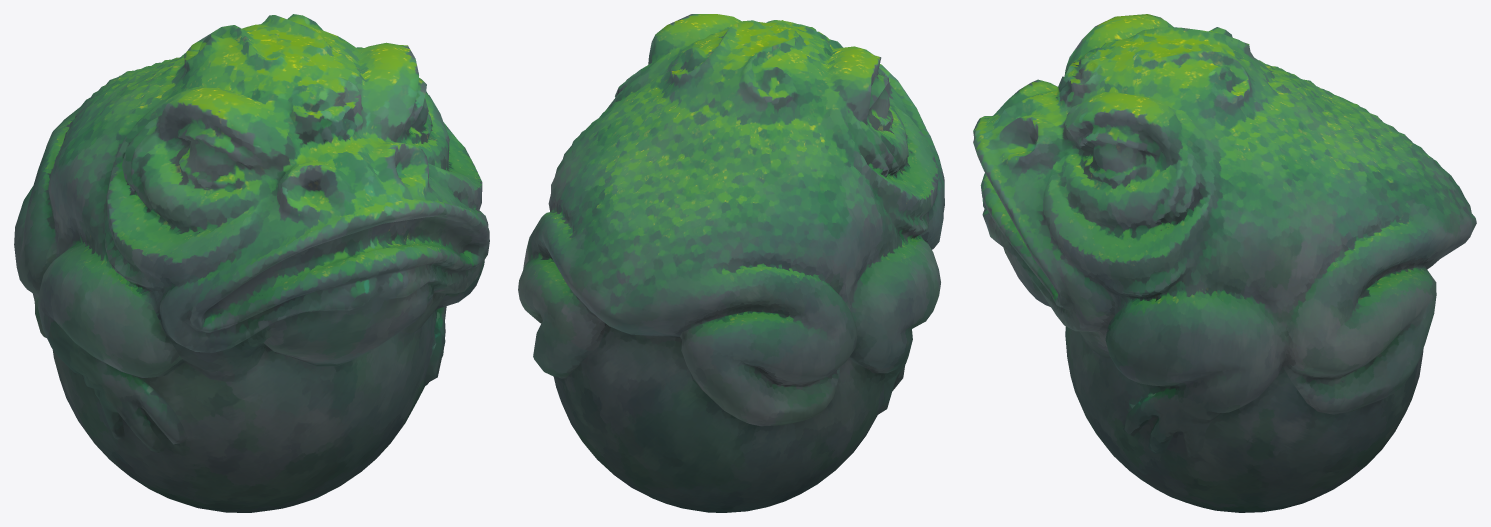
The model's file is ghibli-statue.glb.
3 views of the same model, side by side, from view 1: azimuth 30°, elevation 25°; view 2: azimuth 150°, elevation 25°; view 3: azimuth 270°, elevation 25° (orthographic). The views are drawn at different scales.
Parts seen in each view (by area): view 1: g; view 2: g; view 3: g.
Boxes of the visible parts, box(x1,y1,x2,y2) form: g: box(14, 14, 489, 512); g: box(518, 14, 944, 512); g: box(973, 14, 1476, 512).
Bounding box in the file's own units: 35.34 × 40.59 × 40.69.
1 material, 1 textured.
